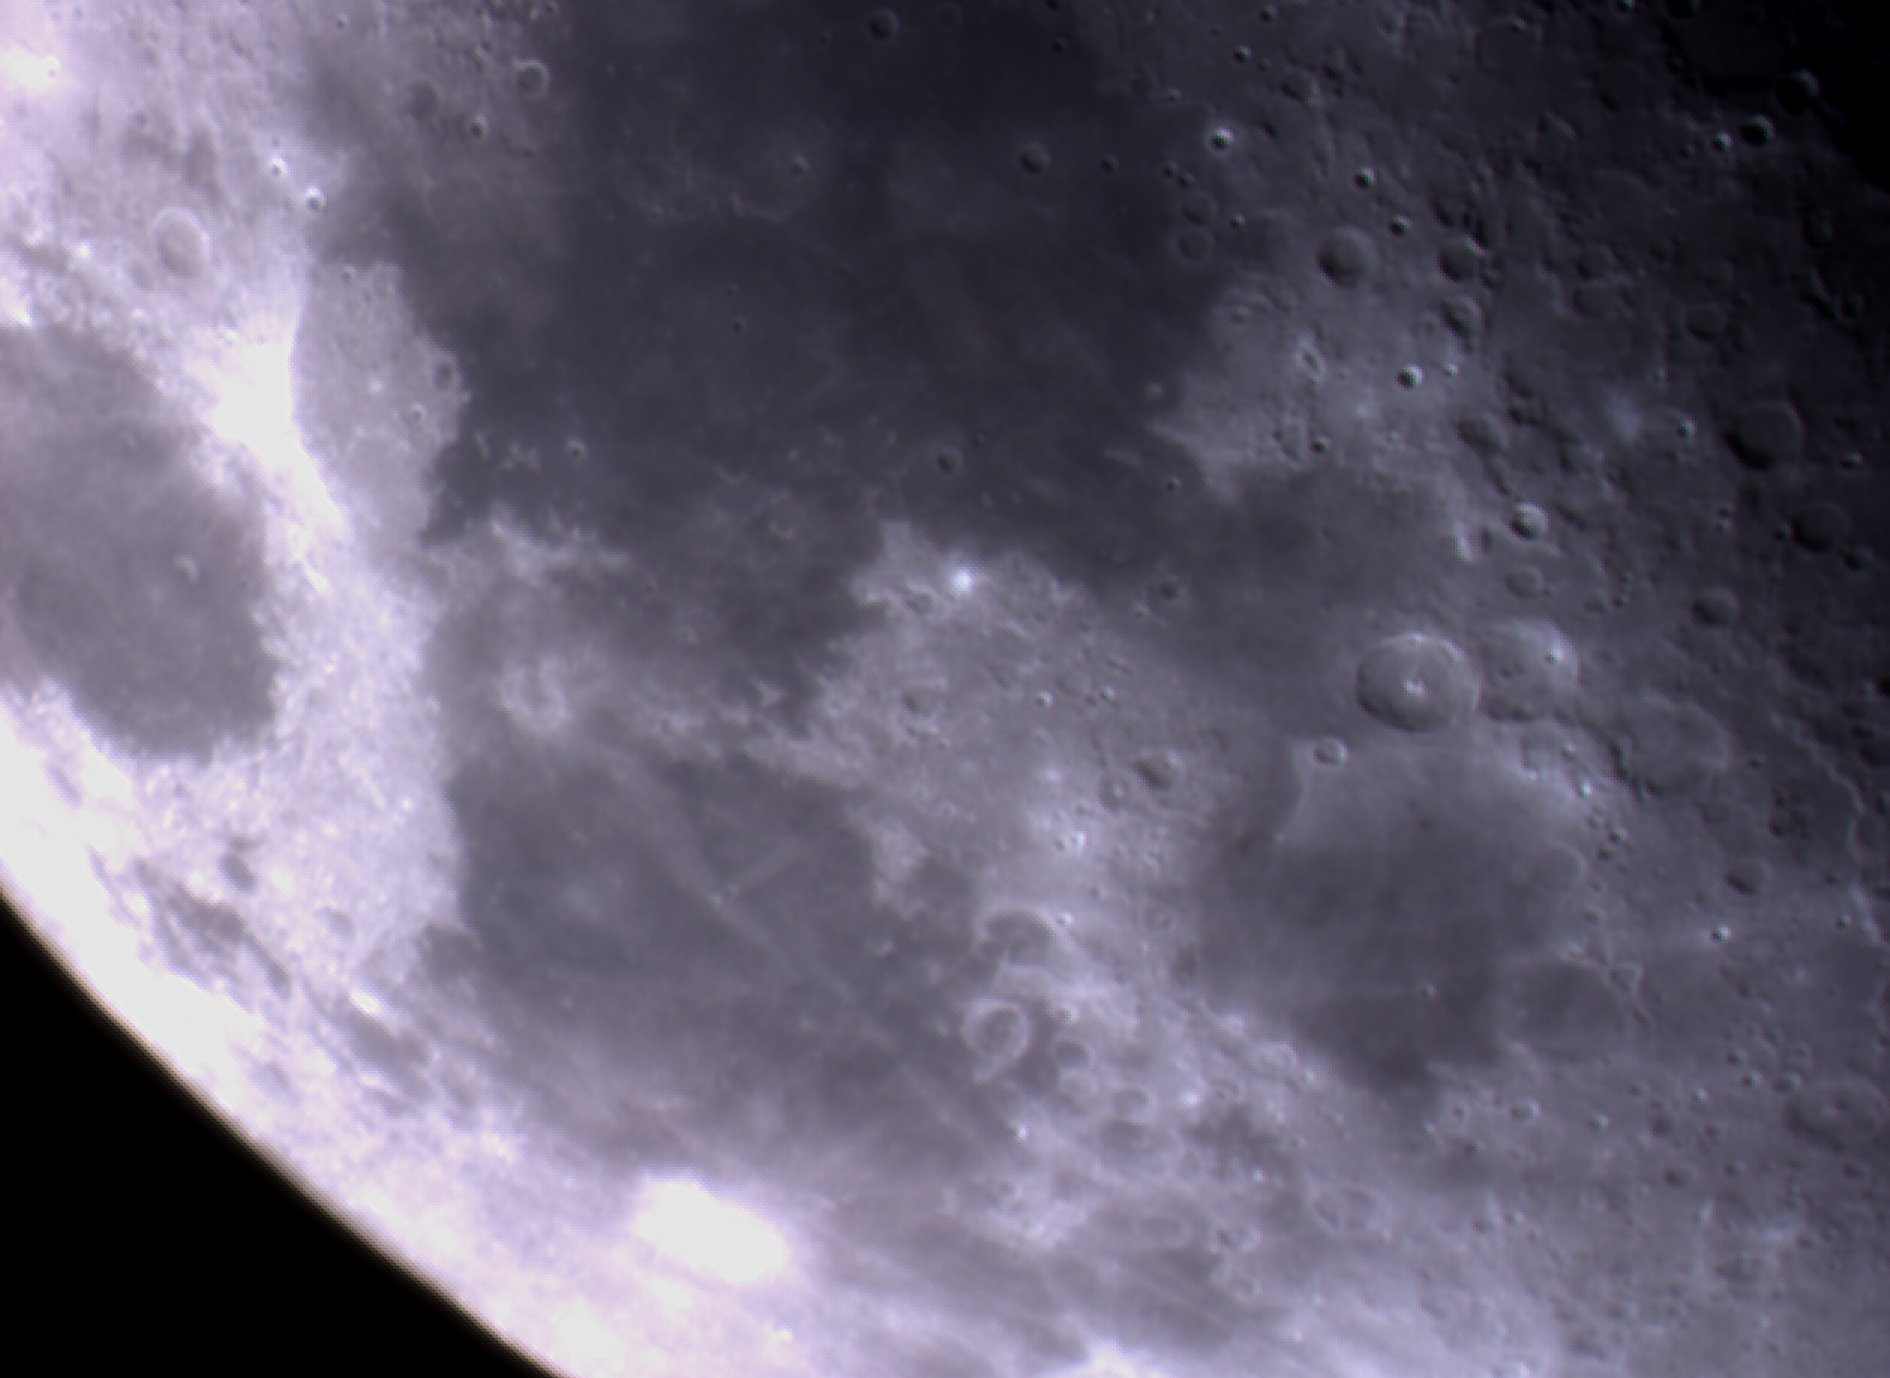crater: (569, 1109, 914, 1330), (1329, 602, 1486, 788), (1707, 374, 1820, 496), (1293, 195, 1401, 321), (128, 197, 227, 310), (999, 125, 1079, 223), (406, 329, 497, 408), (1288, 715, 1368, 804), (905, 418, 977, 503), (492, 54, 569, 132), (1730, 81, 1778, 179), (844, 1, 930, 54), (292, 161, 357, 229)
